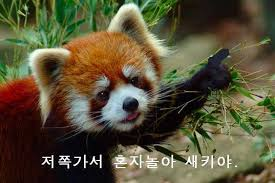redPanda: (0, 8, 228, 152)
